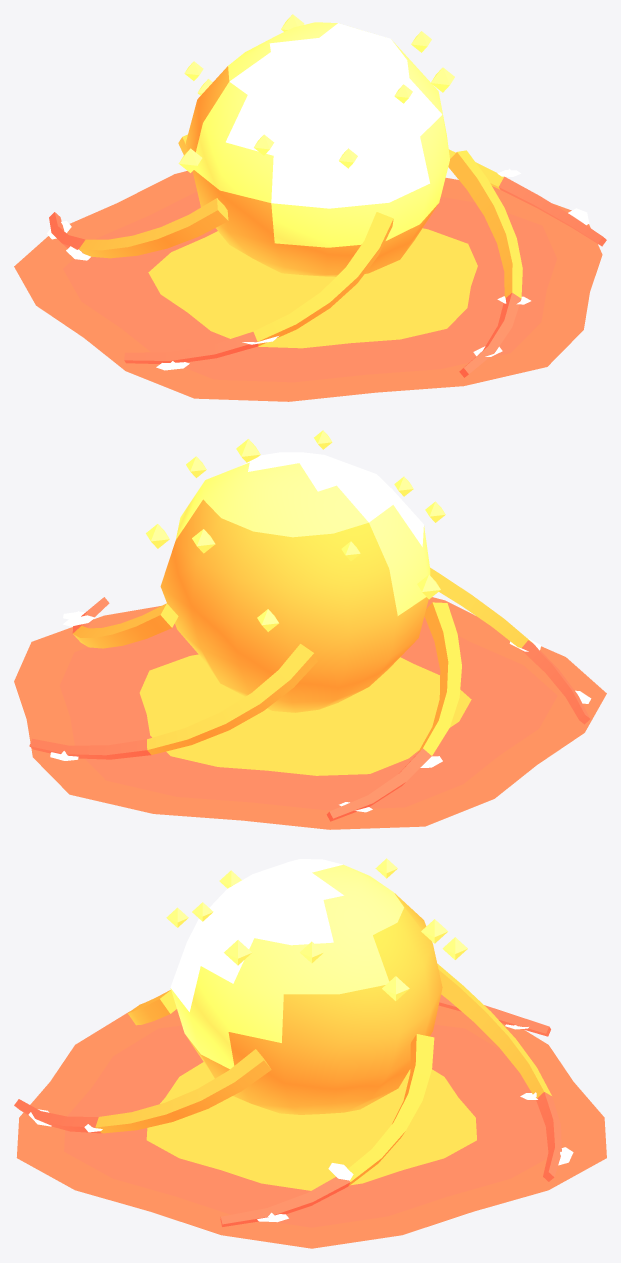
The model's file is great_attractor.glb.
3 views of the same model, one above another, from view 1: azimuth 30°, elevation 25°; view 2: azimuth 150°, elevation 25°; view 3: azimuth 270°, elevation 25° (orthographic).
Parts seen in each view (by area): view 1: body; view 2: body; view 3: body.
Boxes of the visible parts, x1=… form: body: x1=14, y1=14, x2=606, y2=401; body: x1=14, y1=430, x2=606, y2=829; body: x1=14, y1=858, x2=606, y2=1248.
Size of the model in its own units: 202 by 92.32 by 203.
